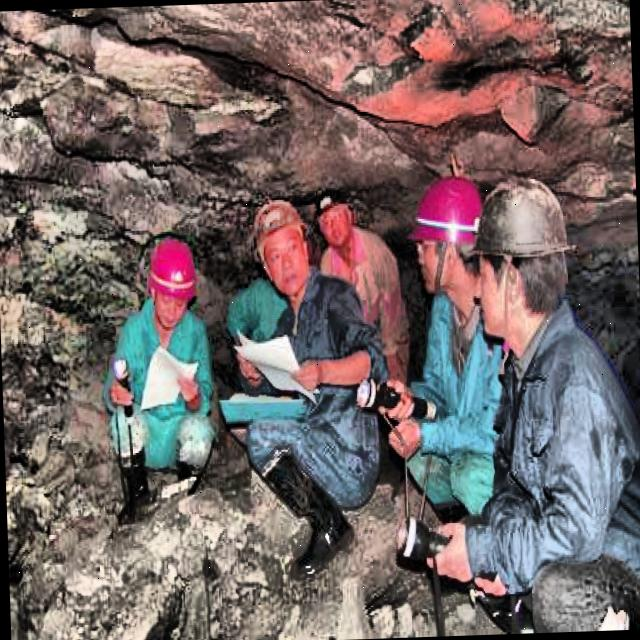helmet: (484, 180, 574, 328), (403, 168, 491, 298), (140, 230, 202, 333), (249, 197, 311, 296), (315, 177, 355, 254)
